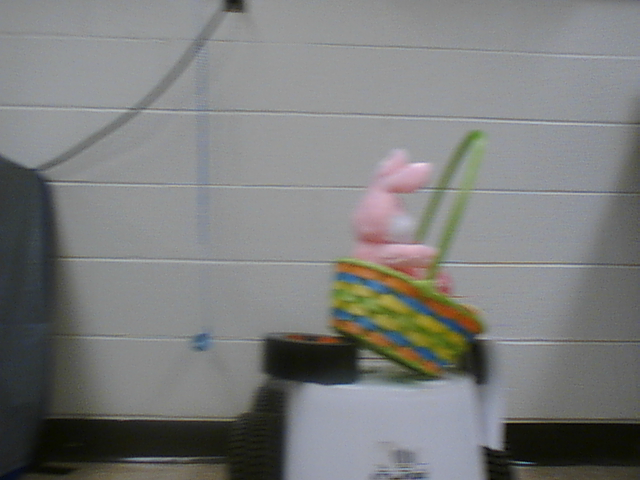bunny: (320, 125, 492, 381)
